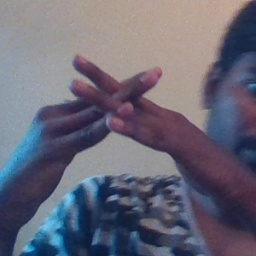W: (41, 46, 187, 174)
